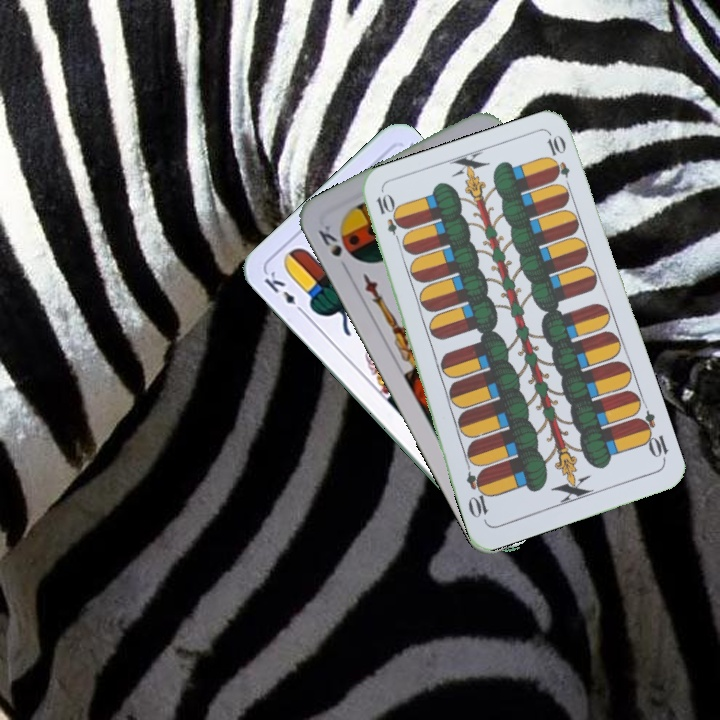E10: (632, 407, 671, 465), (372, 190, 406, 248)
EK: (260, 267, 308, 317)
SK: (314, 221, 351, 275)
